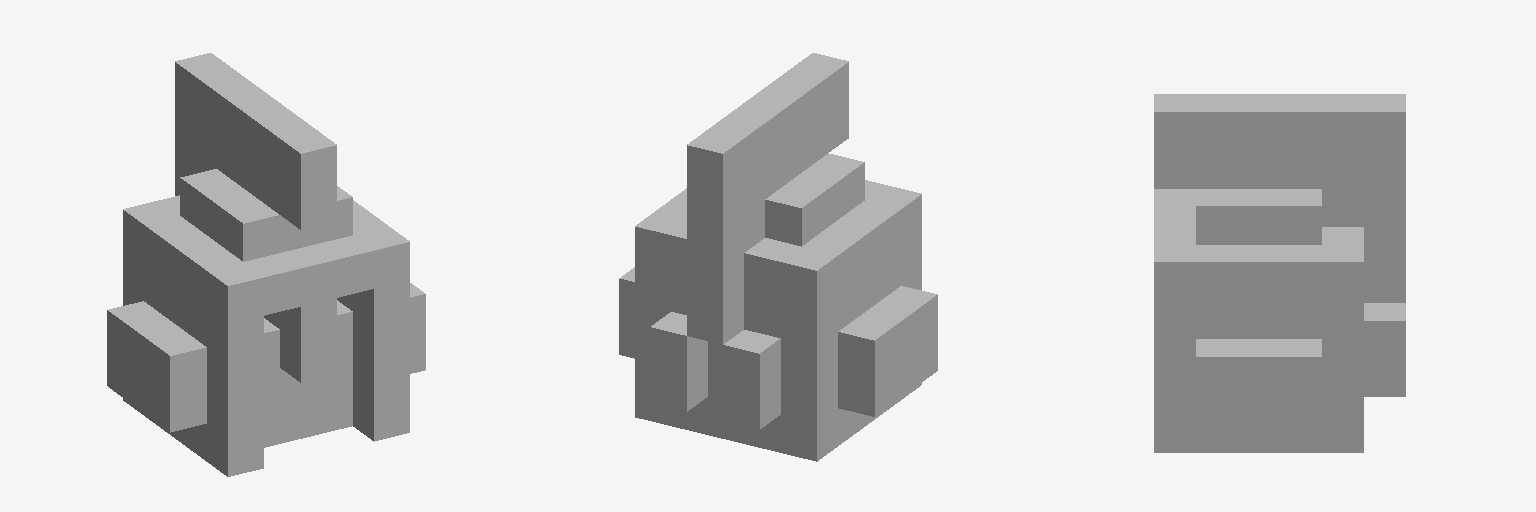
File: head.obj
3 renders of one model, left to right at view 1: azimuth 30°, elevation 25°; view 2: azimuth 150°, elevation 25°; view 3: azimuth 270°, elevation 25°, orthographic.
Size of the model in its own units: 7 by 8 by 6.